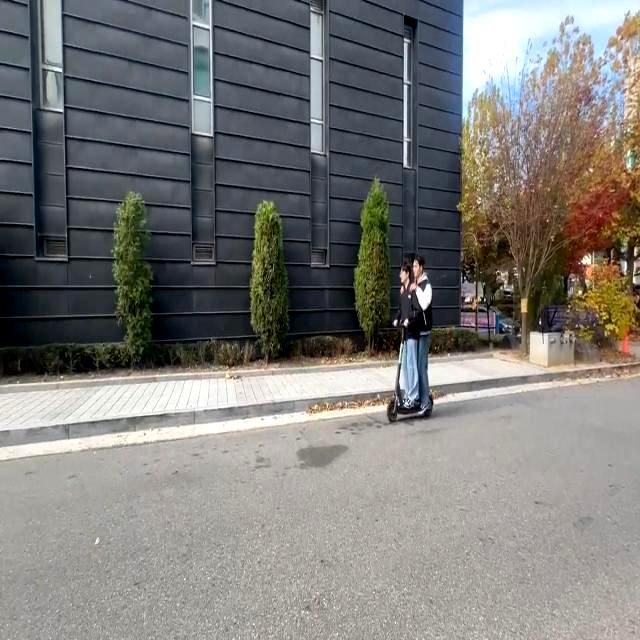bare_head: (396, 260, 414, 285), (409, 258, 426, 280)
human: (406, 254, 434, 414), (392, 258, 421, 408)
kickboard: (378, 389, 438, 427)
